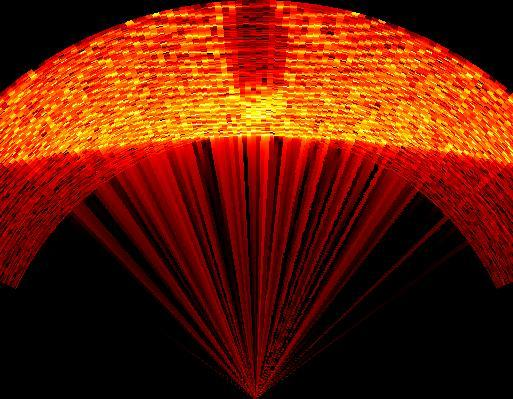box_crate: (209, 0, 288, 95)
